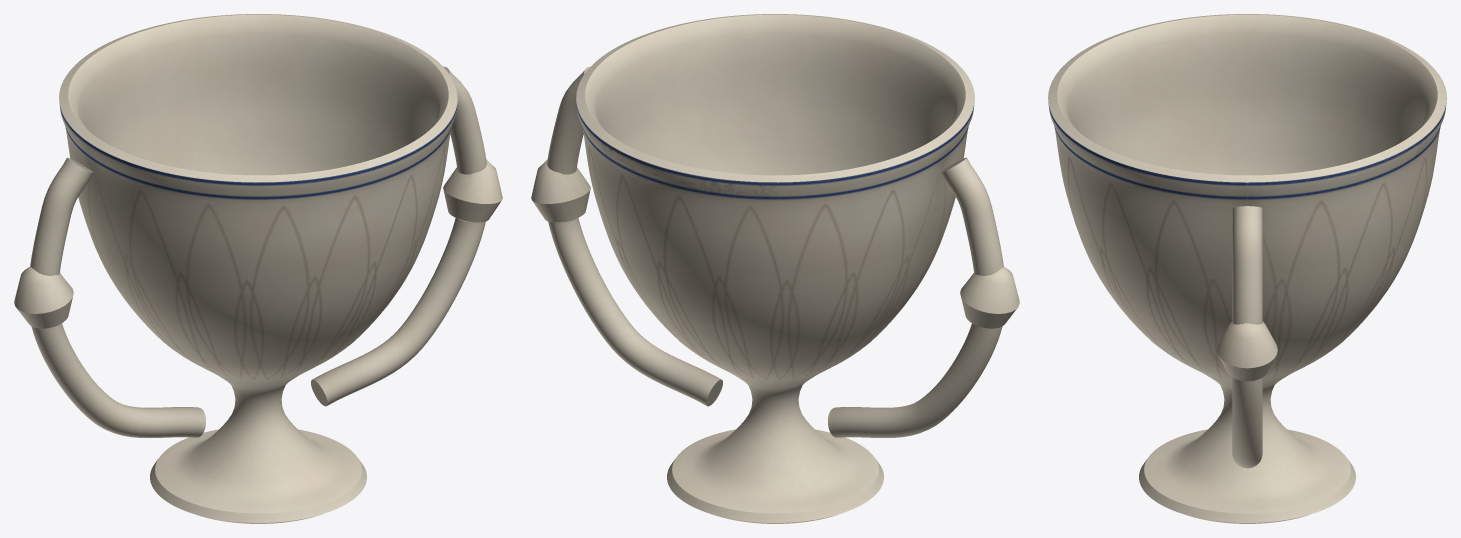
File: lotus_chalice.glb
3 views of the same model, side by side, from view 1: azimuth 30°, elevation 25°; view 2: azimuth 150°, elevation 25°; view 3: azimuth 270°, elevation 25° (orthographic).
Visible parts, largest first — view 1: lotus_chalice; view 2: lotus_chalice; view 3: lotus_chalice.
Part boxes in pixels (box(x1,y1,x2,y2)): lotus_chalice: box(14, 14, 502, 523); lotus_chalice: box(531, 14, 1019, 523); lotus_chalice: box(1048, 14, 1446, 523).
Size of the model in its own units: 0.2373 by 0.183 by 0.1705.
1 material, 1 textured.
